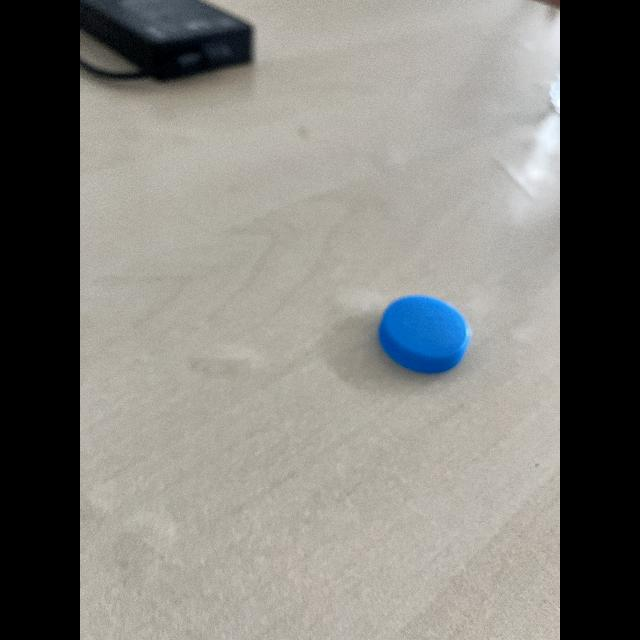plastic_bottle_cap: (368, 281, 477, 377)
